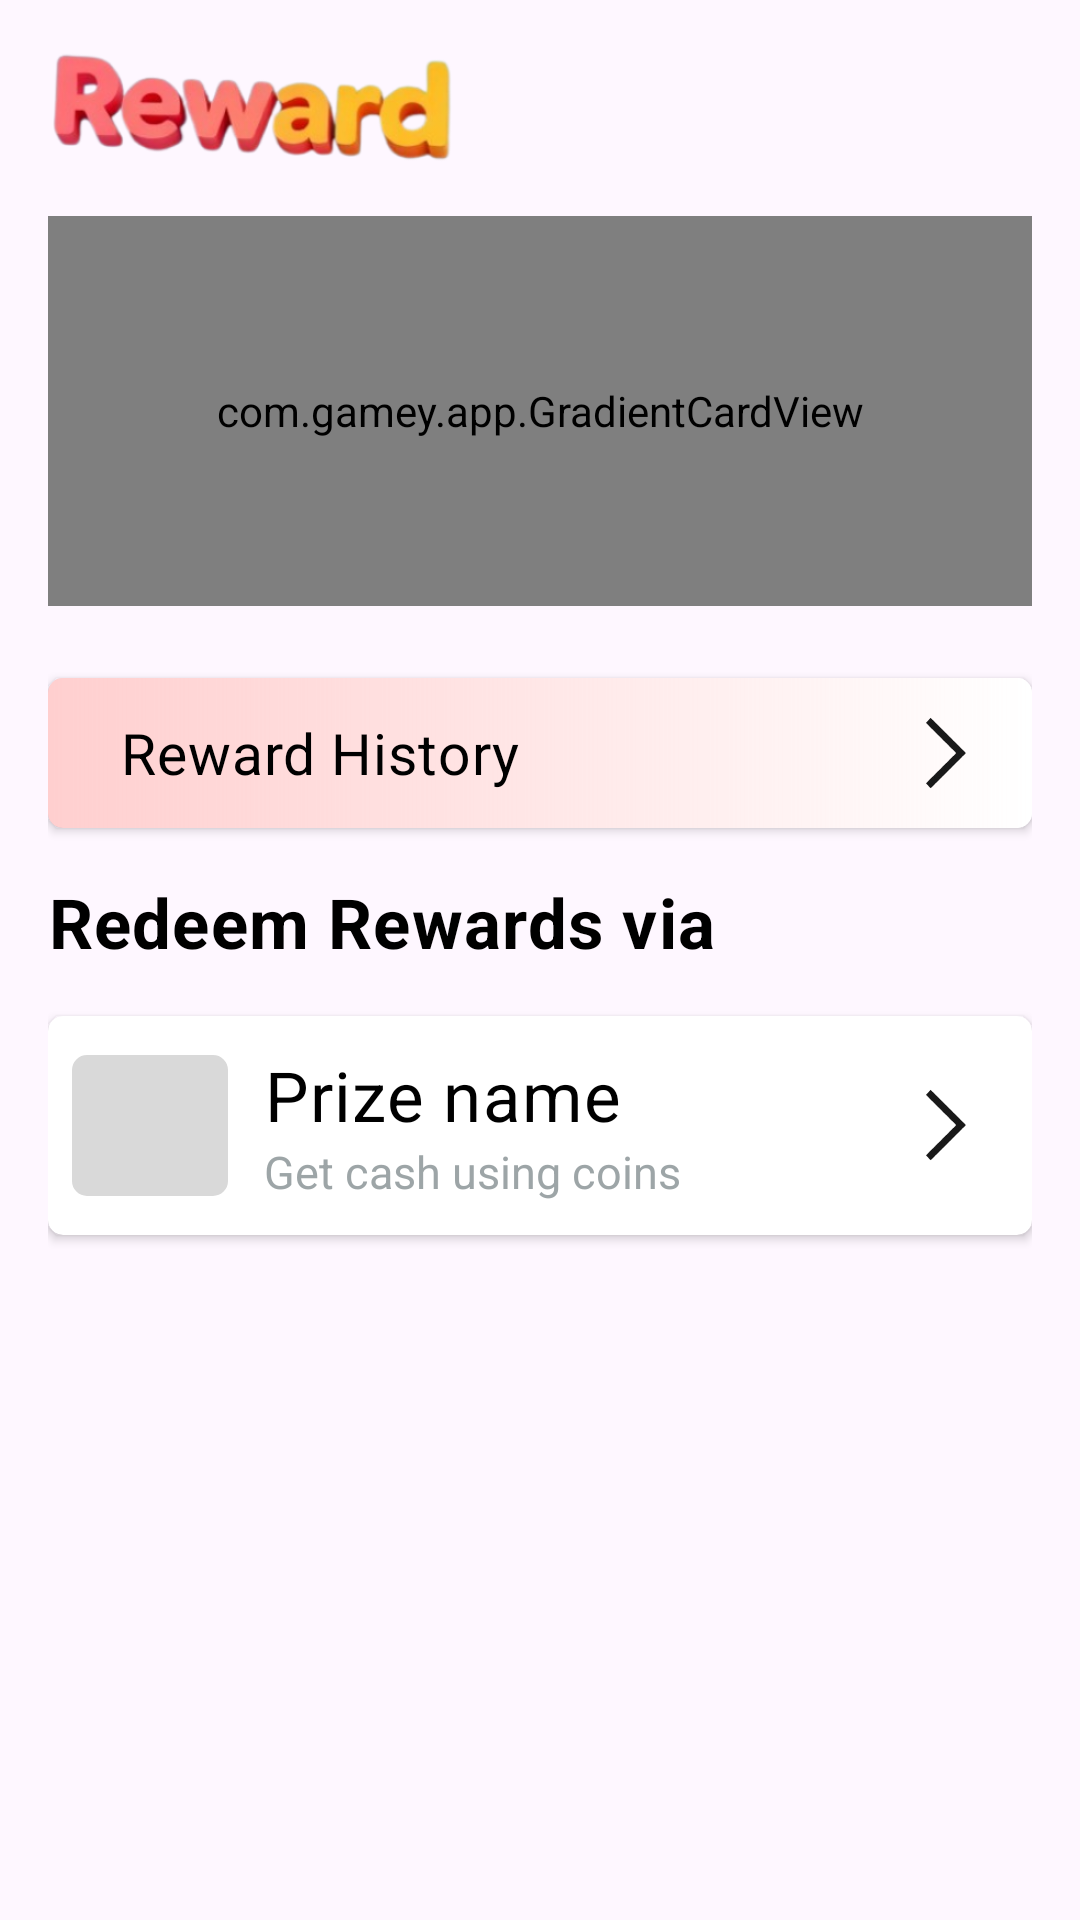

Icons on this 1080x1920 Android screen, each with the point to tap as (x=x, y=y):
arrow end: (x=946, y=753), (x=946, y=1125)
